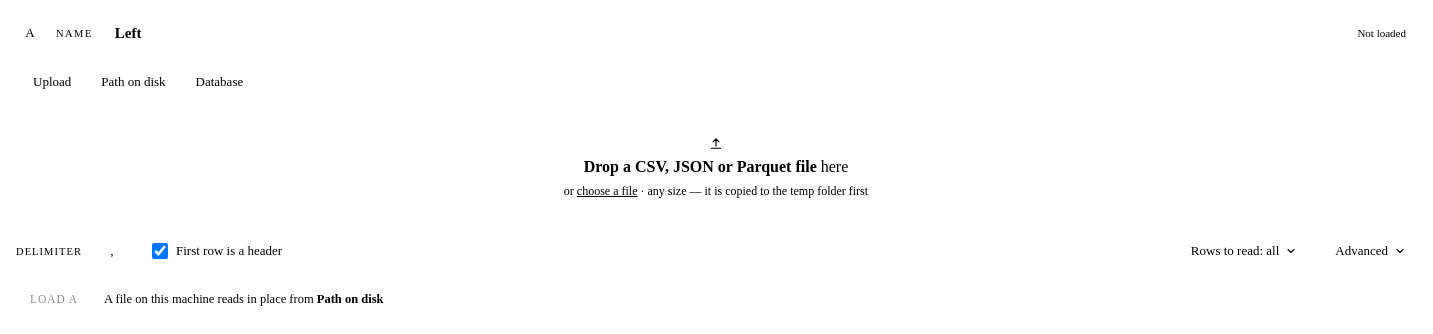
an empty card: region, Name, Not loaded, the source radios, and Load only once a file is picked
Expected: the field labelled "Name" holds "Left", x1=105 y1=16 x2=245 y2=50
Expected: the message reads "Not loaded", x1=1357 y1=27 x2=1406 y2=39
Click the radio button labelled "Path on disk".
click(133, 82)  # box x1=101 y1=74 x2=166 y2=89
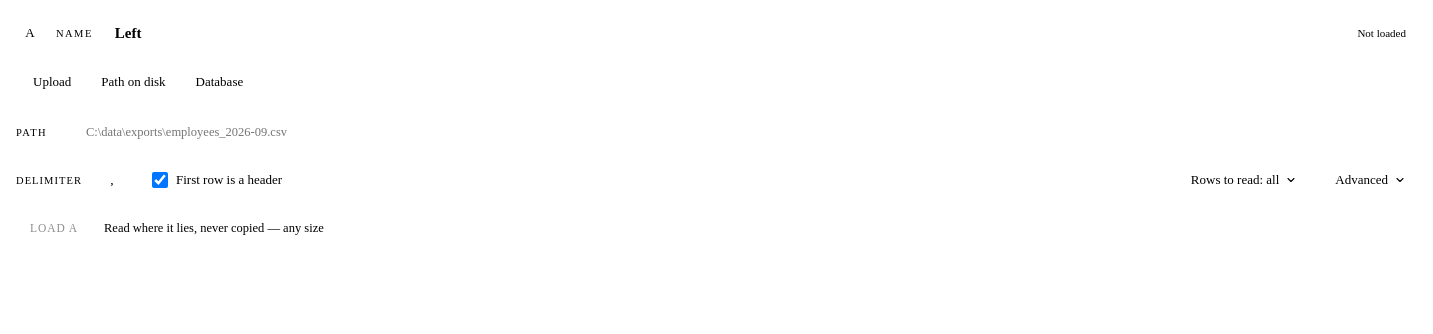
Type "D:/x/hr.csv" into the field named "Path to CSV or JSON".
click(746, 132); type("D:/x/hr.csv")  # box x1=76 y1=114 x2=1416 y2=150
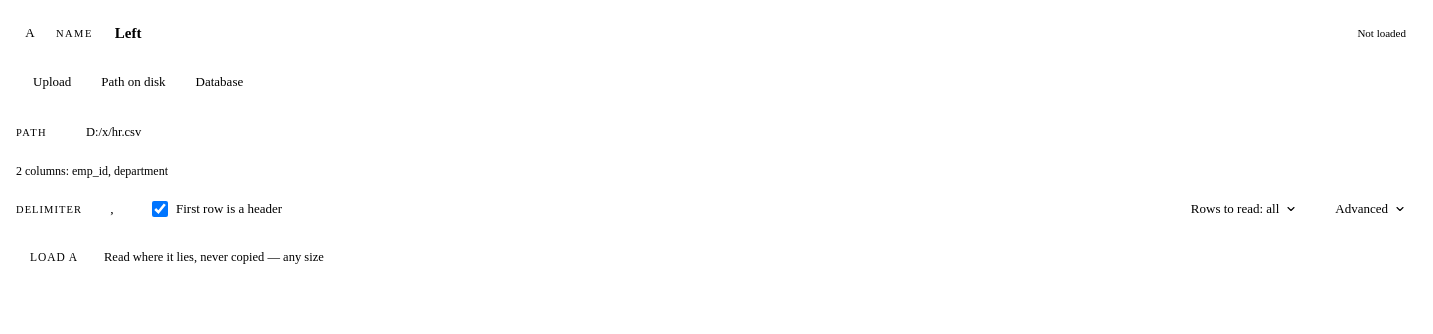
Expected: the text "2 columns: emp_id, department" is shown, x1=16 y1=164 x2=168 y2=178
Expected: the button "Load A" is enabled, x1=16 y1=239 x2=92 y2=275
